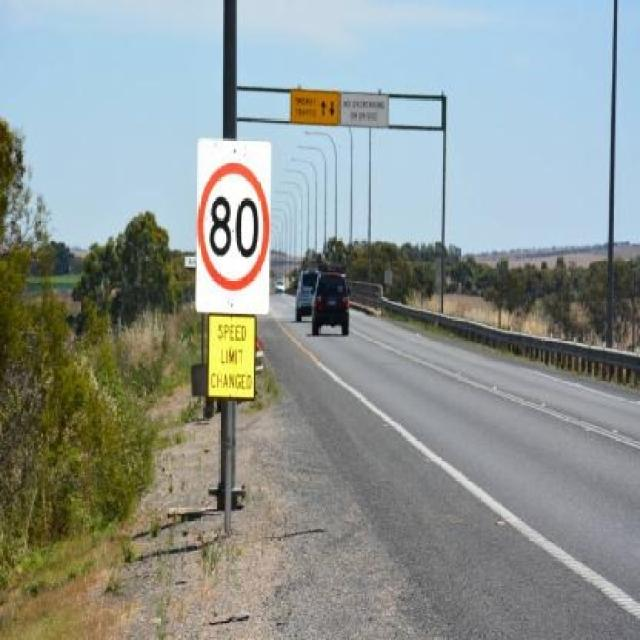forb_speed_over_80: (195, 159, 272, 295)
